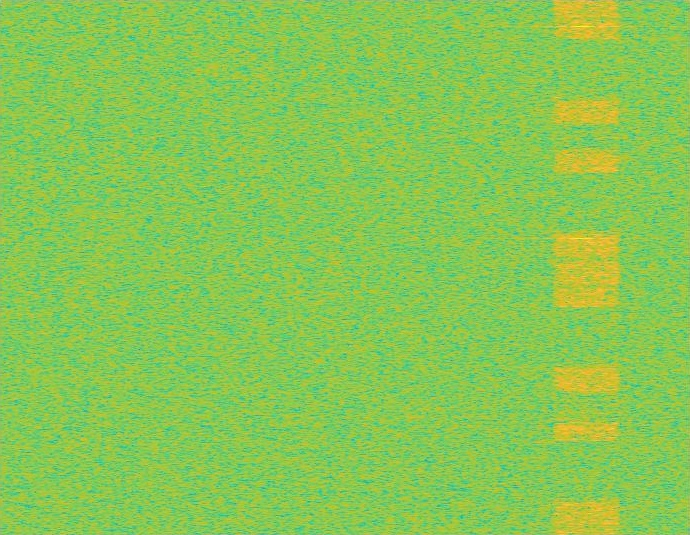LTE: (552, 0, 621, 534)
Radar: (576, 0, 589, 534)
